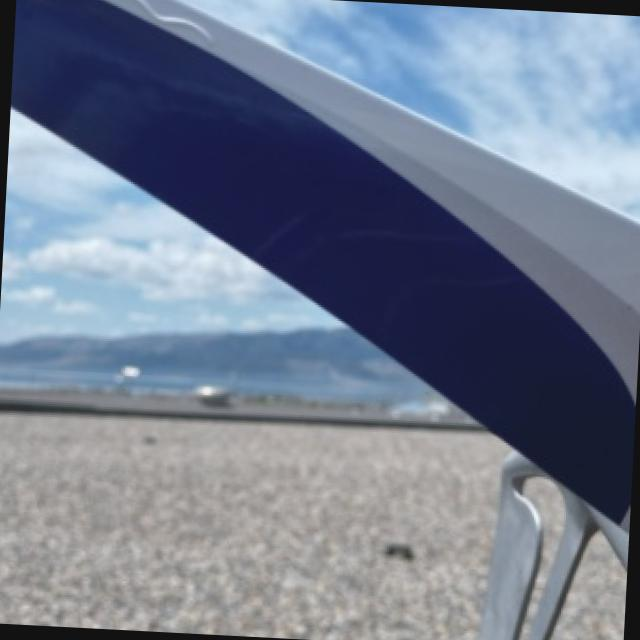healthy: (11, 0, 640, 519)
